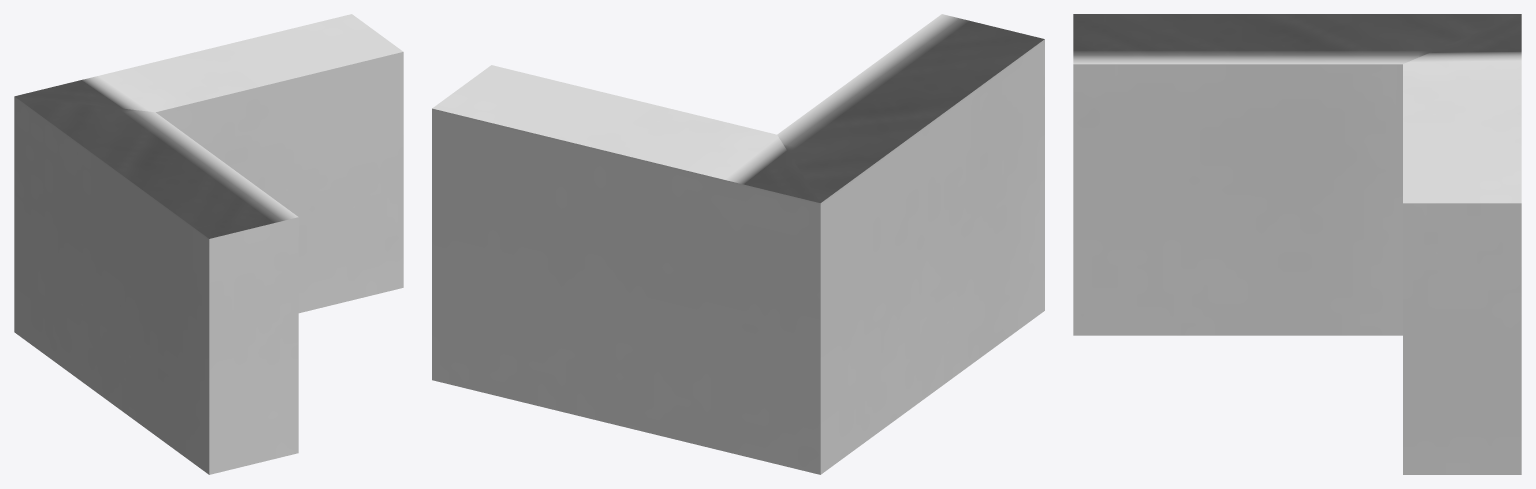
The model's file is TrimCapCornIn.gltf.
The picture shows the model from 3 angles, left to right: view 1: azimuth 30°, elevation 25°; view 2: azimuth 150°, elevation 25°; view 3: azimuth 270°, elevation 25°; orthographic projection. The views are drawn at different scales.
Visible parts, largest first — view 1: TrimCapCornInShape; view 2: TrimCapCornInShape; view 3: TrimCapCornInShape.
Part boxes in pixels (left/top/right/bottom): TrimCapCornInShape: left=14, top=14, right=403, bottom=474; TrimCapCornInShape: left=432, top=14, right=1044, bottom=474; TrimCapCornInShape: left=1073, top=14, right=1521, bottom=474.
Size of the model in its own units: 0.422 by 0.282 by 0.422.
